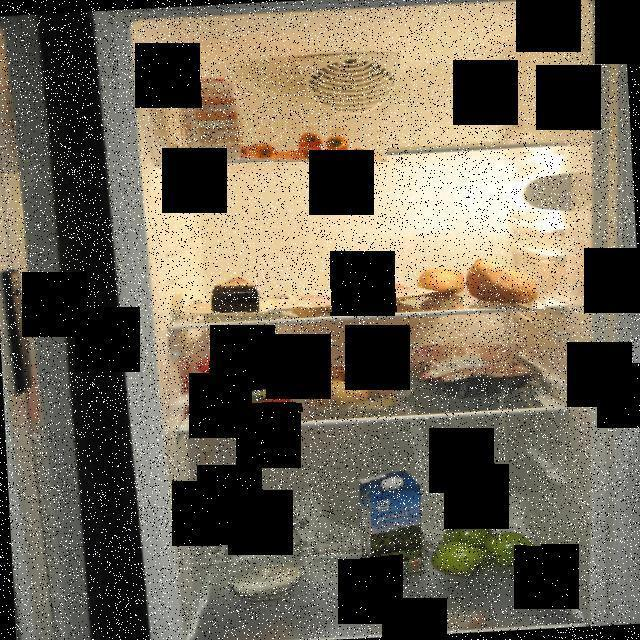apple: (425, 512, 541, 580)
butter: (196, 349, 306, 414)
carrot: (240, 120, 388, 162)
cheese: (207, 272, 269, 316)
chicken: (398, 336, 542, 398)
flour: (211, 506, 313, 604)
ham: (282, 280, 441, 312)
milk: (355, 471, 429, 577)
potato: (294, 356, 398, 412)
sugar: (178, 74, 246, 163)
sweet_potato: (464, 253, 550, 310), (416, 265, 466, 300)
